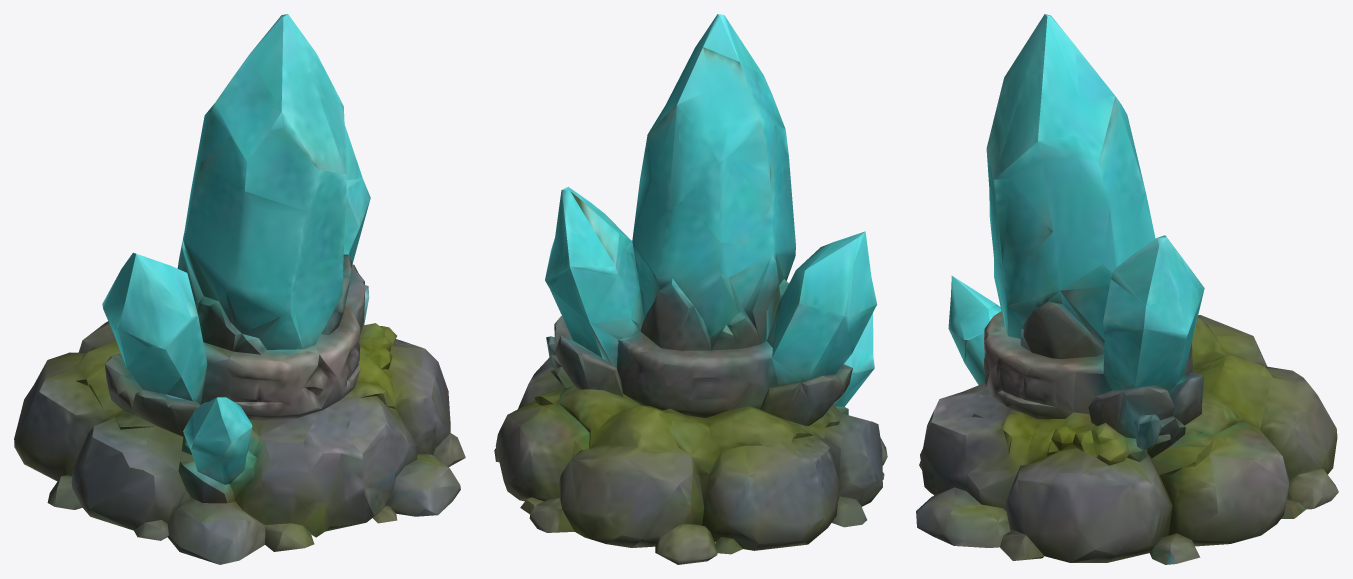
The model's file is cristal_resonante_2000.glb.
The picture shows the model from 3 angles, left to right: view 1: azimuth 30°, elevation 25°; view 2: azimuth 150°, elevation 25°; view 3: azimuth 270°, elevation 25°; orthographic projection. The views are drawn at different scales.
Parts seen in each view (by area): view 1: cristal_resonante_malla; view 2: cristal_resonante_malla; view 3: cristal_resonante_malla.
Boxes of the visible parts, x1,y1,x2,y2 form: cristal_resonante_malla: [14, 14, 465, 564]; cristal_resonante_malla: [494, 14, 887, 564]; cristal_resonante_malla: [916, 14, 1338, 564].
Size of the model in its own units: 0.2879 by 0.3466 by 0.2795.
Materials: 1 (1 with a texture image).
